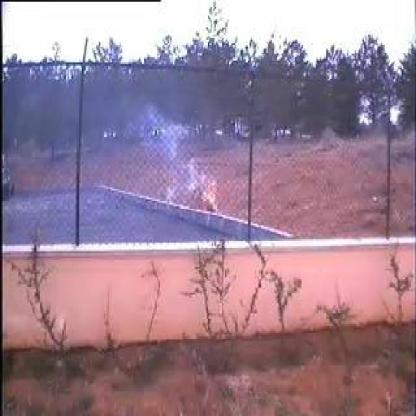-: (86, 103, 203, 225)
